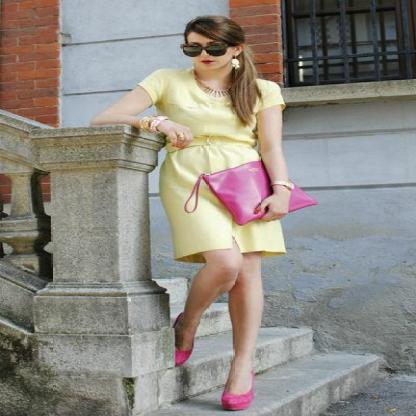bag: (199, 152, 336, 229)
dress: (148, 68, 285, 258)
shoe: (174, 348, 252, 416)
sunglass: (180, 27, 236, 57)
